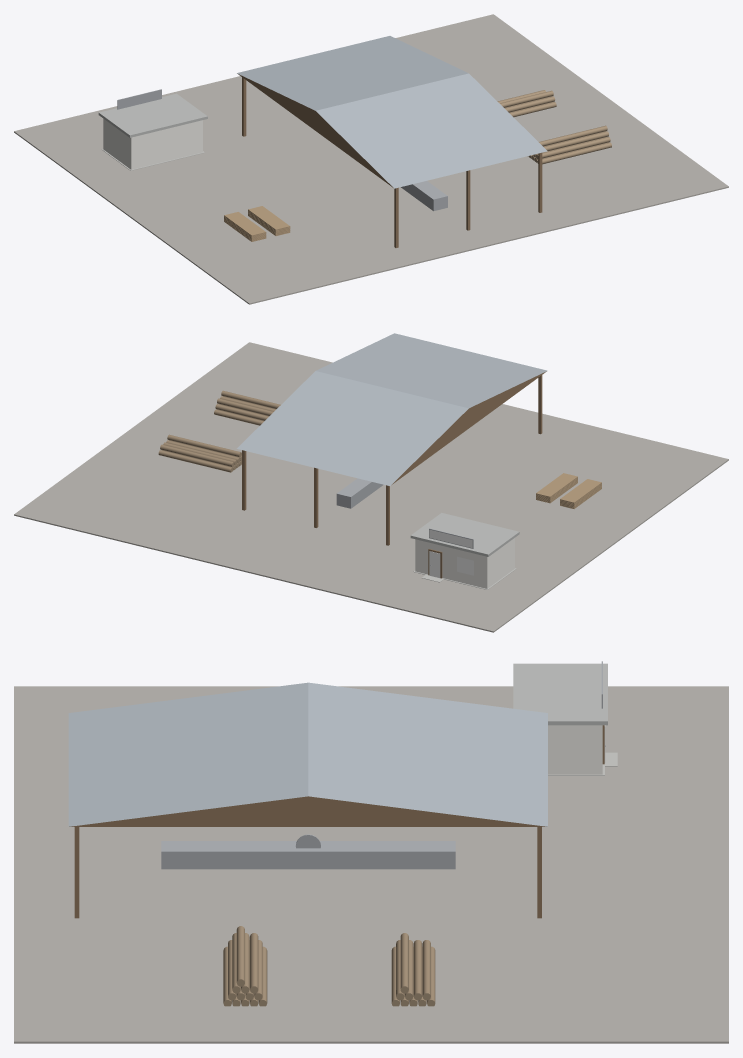
File: sawmill.glb
The picture shows the model from 3 angles, top to bottom: view 1: azimuth 30°, elevation 25°; view 2: azimuth 150°, elevation 25°; view 3: azimuth 270°, elevation 25°; orthographic projection. The views are drawn at different scales.
Parts seen in each view (by area): view 1: sawmill; view 2: sawmill; view 3: sawmill.
Part boxes in pixels (box(x1,y1,x2,y2)): sawmill: box(14, 14, 728, 304); sawmill: box(14, 333, 728, 632); sawmill: box(14, 661, 728, 1043).
Size of what is drawn, in the model's own units: 40 by 8.5 by 34.
